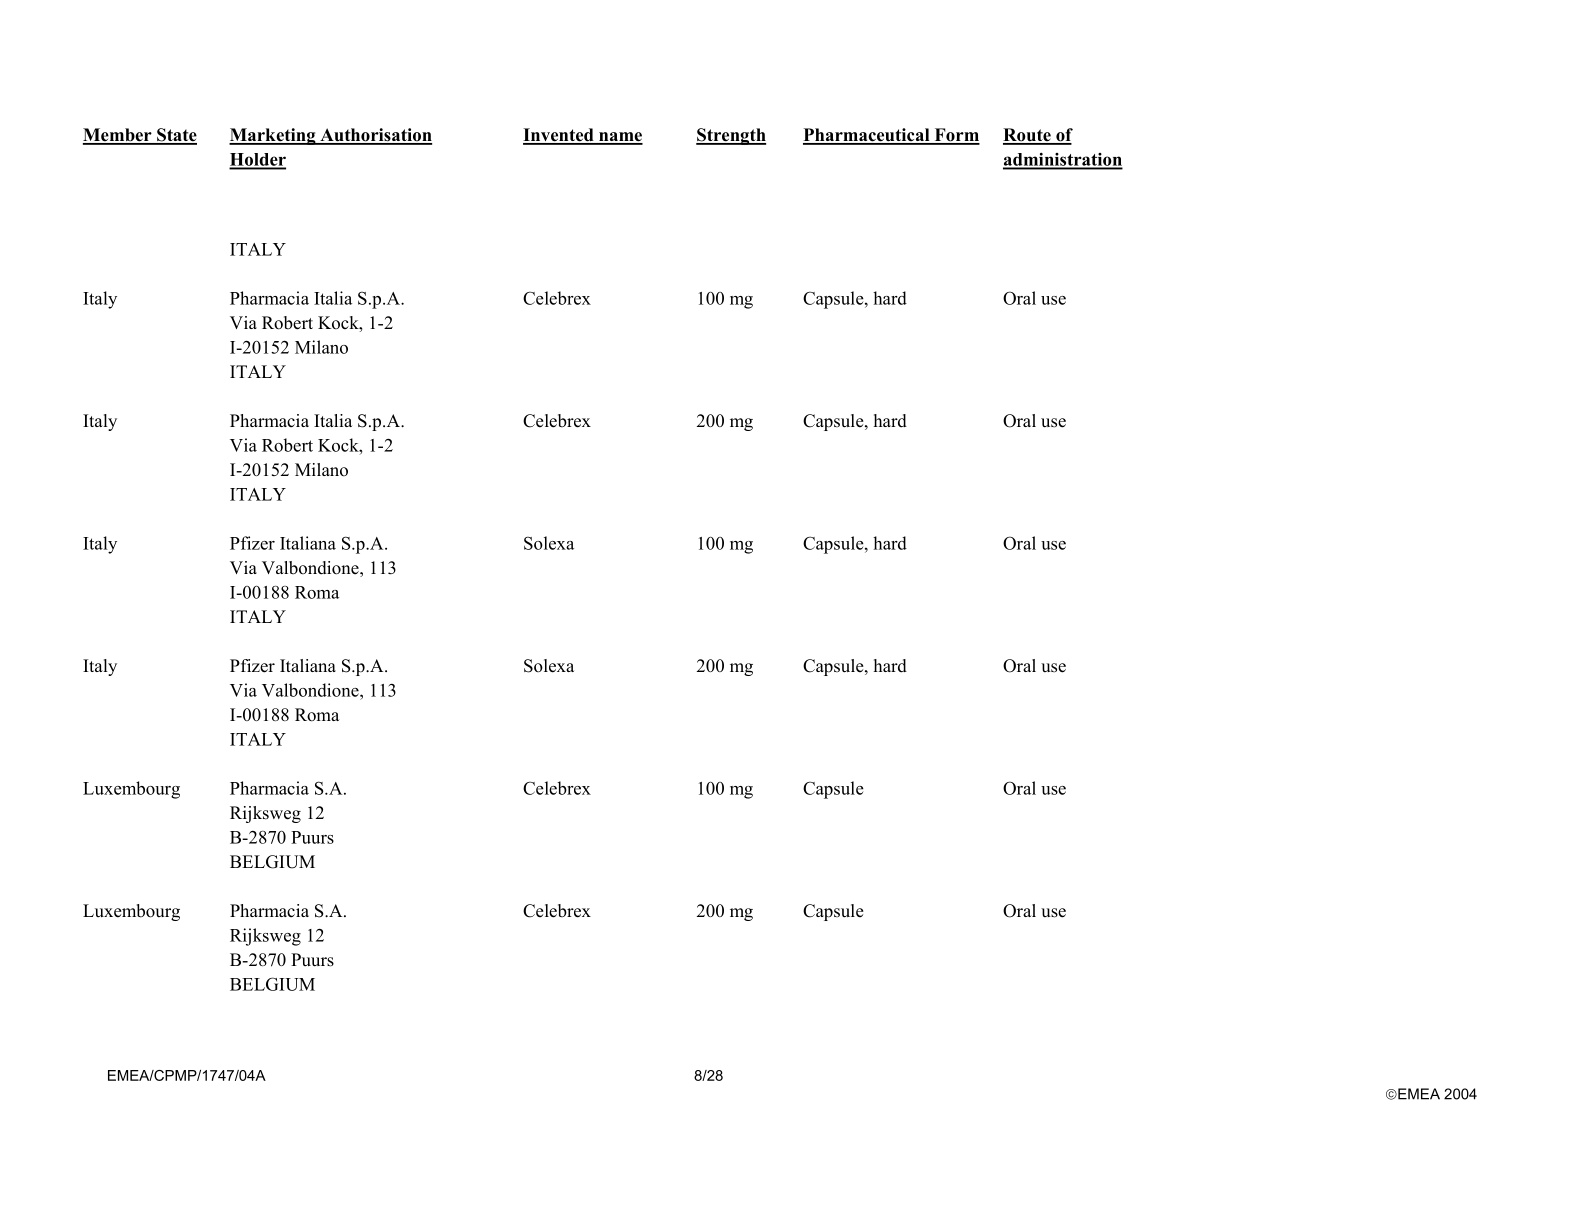nolines: (75, 129, 1124, 995)
